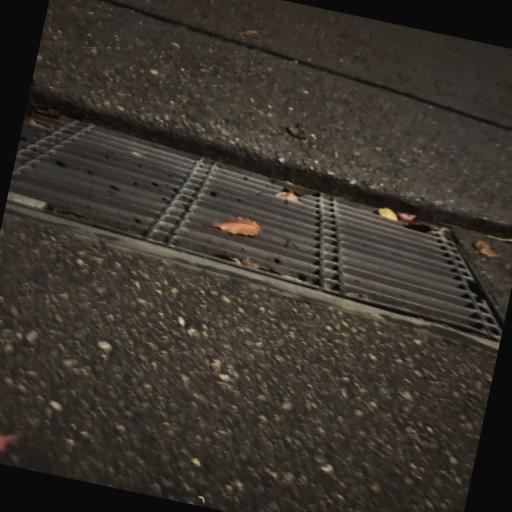gutter: (5, 115, 505, 341)
step: (31, 0, 512, 234)
